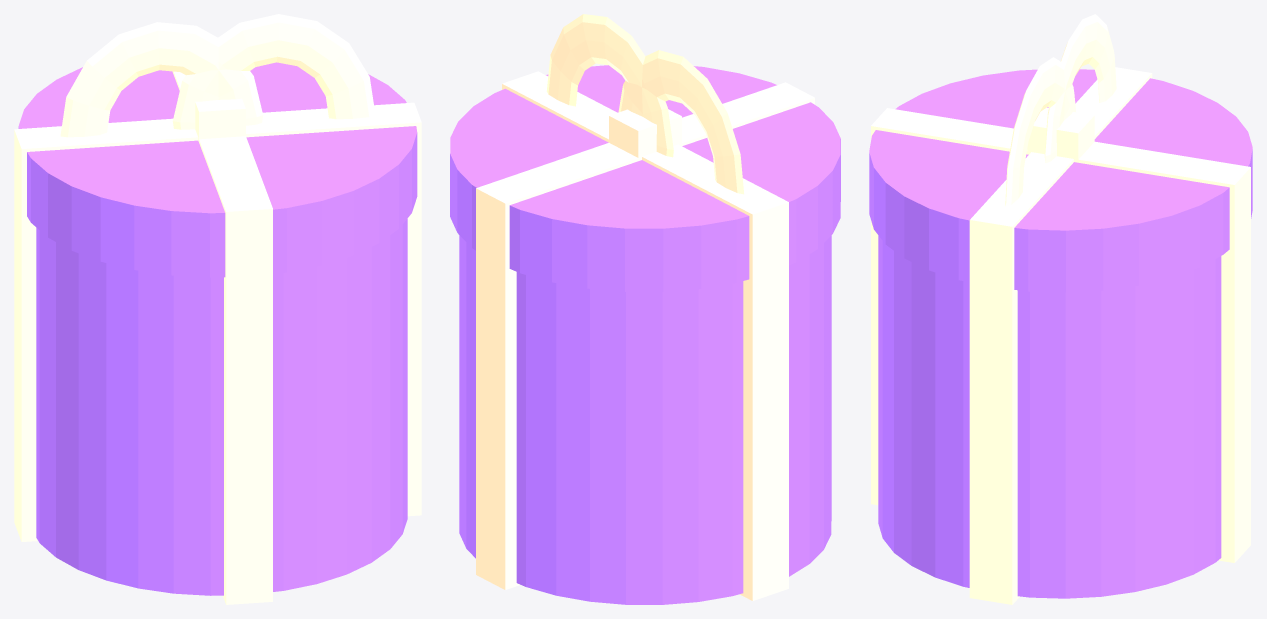
File: Tmpl_Round_Root_215.glb
3 views of the same model, side by side, from view 1: azimuth 30°, elevation 25°; view 2: azimuth 150°, elevation 25°; view 3: azimuth 270°, elevation 25° (orthographic). The views are drawn at different scales.
Visible parts, largest first — view 1: Tmpl_Round_Base.213, Tmpl_Round_Lid.213, Tmpl_Round_Ribbon_Y.213, Tmpl_Round_Ribbon_X.213, Tmpl_Round_BowL.213, Tmpl_Round_BowR.213, Tmpl_Round_BowKnot.213; view 2: Tmpl_Round_Base.213, Tmpl_Round_Lid.213, Tmpl_Round_Ribbon_X.213, Tmpl_Round_Ribbon_Y.213, Tmpl_Round_BowL.213, Tmpl_Round_BowR.213, Tmpl_Round_BowKnot.213; view 3: Tmpl_Round_Base.213, Tmpl_Round_Lid.213, Tmpl_Round_Ribbon_X.213, Tmpl_Round_Ribbon_Y.213, Tmpl_Round_BowR.213, Tmpl_Round_BowL.213, Tmpl_Round_BowKnot.213.
Part boxes in pixels (x1=…): Tmpl_Round_Base.213: x1=36, y1=219, x2=407, y2=595; Tmpl_Round_Lid.213: x1=18, y1=62, x2=417, y2=277; Tmpl_Round_Ribbon_Y.213: x1=172, y1=71, x2=272, y2=604; Tmpl_Round_Ribbon_X.213: x1=14, y1=102, x2=421, y2=541; Tmpl_Round_BowL.213: x1=172, y1=14, x2=375, y2=129; Tmpl_Round_BowR.213: x1=60, y1=22, x2=263, y2=137; Tmpl_Round_BowKnot.213: x1=195, y1=98, x2=245, y2=141; Tmpl_Round_Base.213: x1=459, y1=235, x2=831, y2=604; Tmpl_Round_Lid.213: x1=450, y1=65, x2=840, y2=291; Tmpl_Round_Ribbon_X.213: x1=502, y1=71, x2=788, y2=600; Tmpl_Round_Ribbon_Y.213: x1=476, y1=82, x2=814, y2=589; Tmpl_Round_BowL.213: x1=546, y1=14, x2=673, y2=157; Tmpl_Round_BowR.213: x1=618, y1=50, x2=743, y2=194; Tmpl_Round_BowKnot.213: x1=609, y1=109, x2=681, y2=160; Tmpl_Round_Base.213: x1=878, y1=235, x2=1221, y2=598; Tmpl_Round_Lid.213: x1=869, y1=69, x2=1252, y2=292; Tmpl_Round_Ribbon_X.213: x1=969, y1=67, x2=1152, y2=604; Tmpl_Round_Ribbon_Y.213: x1=871, y1=108, x2=1250, y2=562; Tmpl_Round_BowR.213: x1=1044, y1=14, x2=1116, y2=162; Tmpl_Round_BowL.213: x1=1005, y1=57, x2=1075, y2=206; Tmpl_Round_BowKnot.213: x1=1027, y1=107, x2=1094, y2=162.
Bounding box in the file's own units: 0.6841 × 0.9482 × 0.6841.
